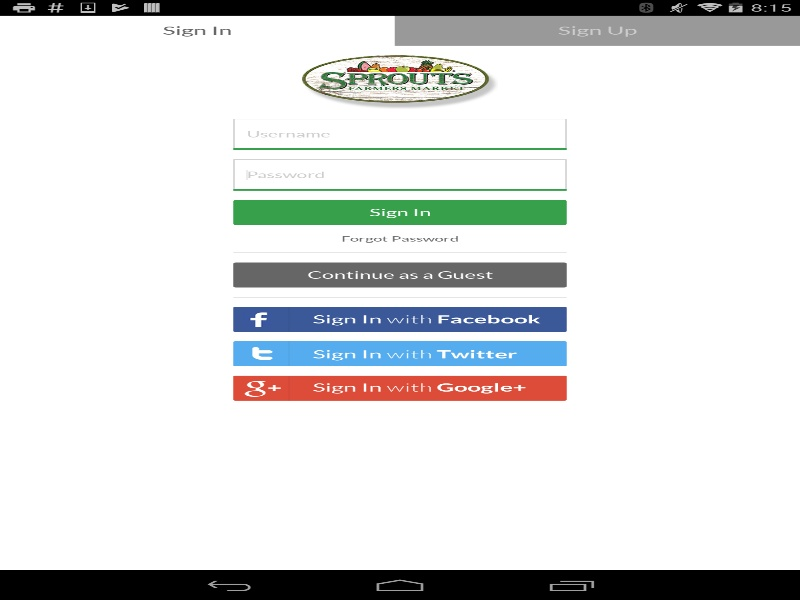Button: (394, 15, 800, 45), (0, 15, 394, 45), (233, 200, 566, 225), (233, 262, 566, 287), (233, 306, 566, 331), (233, 341, 566, 366), (233, 375, 566, 400)
Input: (233, 118, 566, 150), (233, 159, 566, 190)
